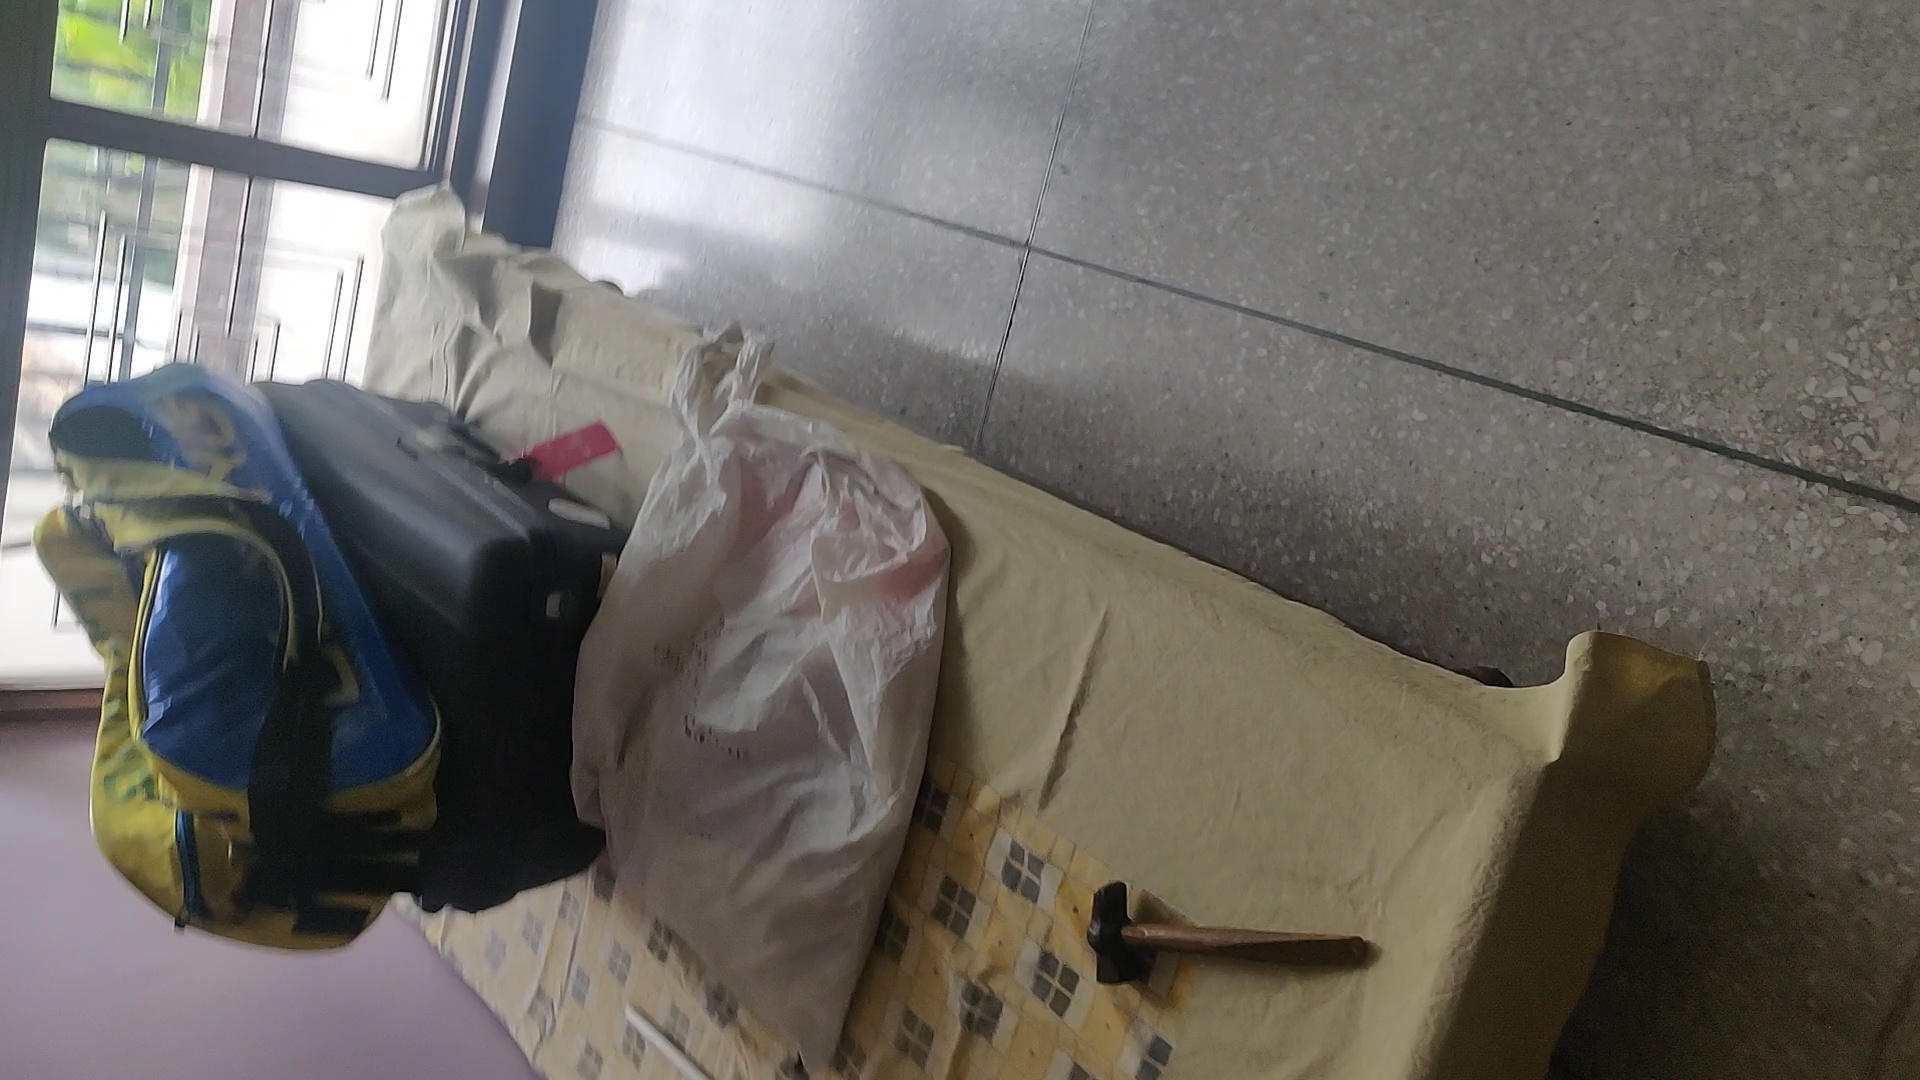hammer: (1084, 877, 1371, 996)
